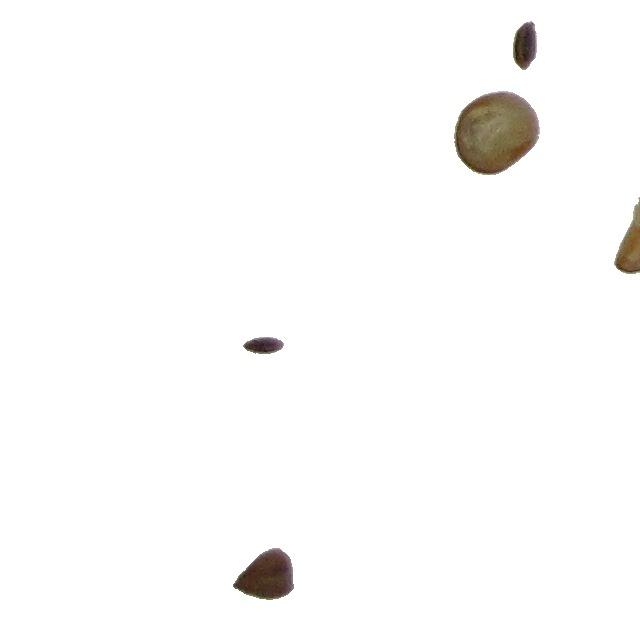buckwheat: (232, 547, 295, 601), (512, 20, 538, 71)
dill: (242, 336, 285, 355)
mais: (453, 90, 541, 176)
other: (613, 186, 640, 275)
